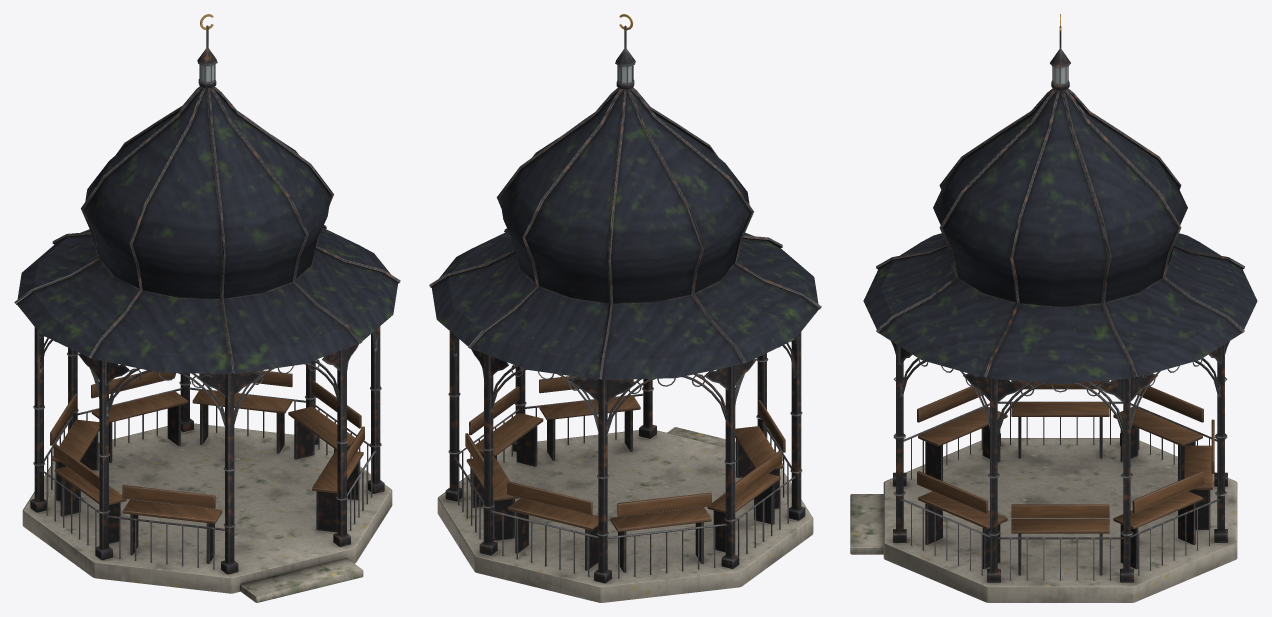
The model's file is IronGazebo.fbx.
3 renders of one model, left to right at view 1: azimuth 30°, elevation 25°; view 2: azimuth 150°, elevation 25°; view 3: azimuth 270°, elevation 25°, orthographic. The views are drawn at different scales.
Visible parts, largest first — view 1: IronGazebo_Main; view 2: IronGazebo_Main; view 3: IronGazebo_Main.
Part boxes in pixels (x1,y1,x2,y2): IronGazebo_Main: [14, 14, 400, 602]; IronGazebo_Main: [429, 14, 821, 602]; IronGazebo_Main: [850, 14, 1257, 602].
Bounding box in the file's own units: 1360 × 1955 × 1405.
